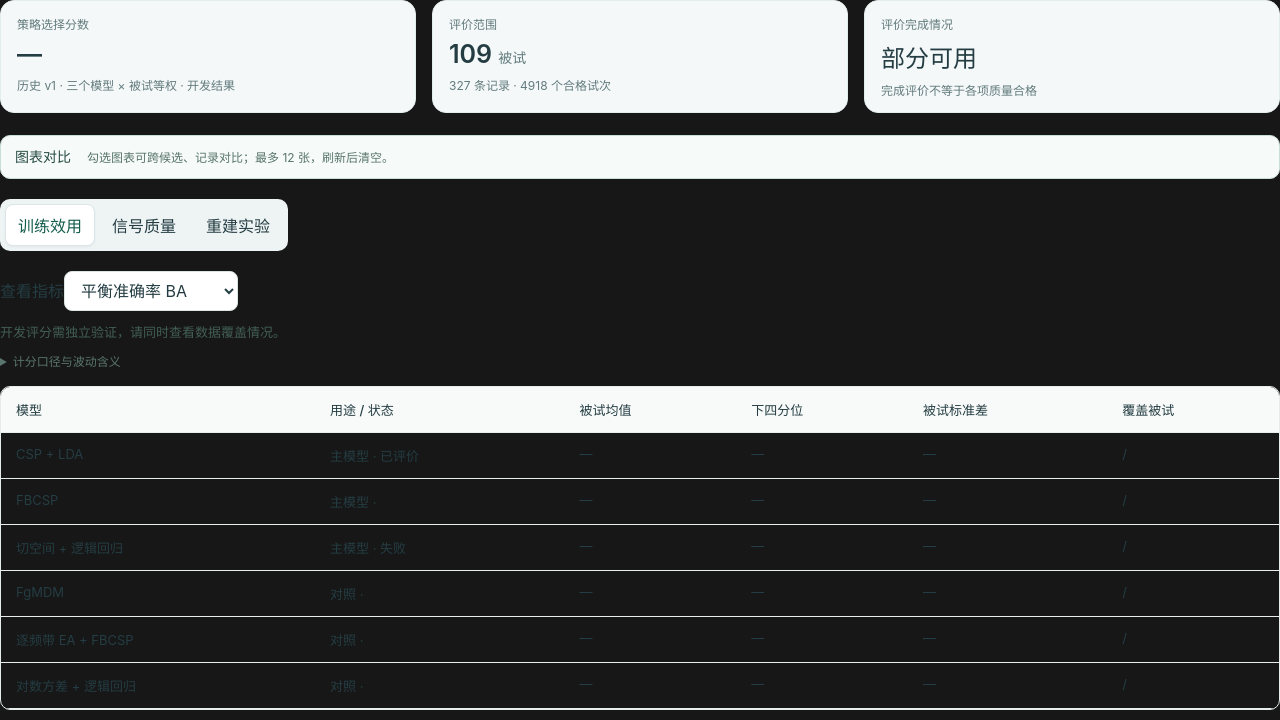
it: multi-axis assessment › does not relabel processed measurements as source measurements while loading
Click the button "信号质量".
click(144, 225)  # box [99, 204, 189, 246]
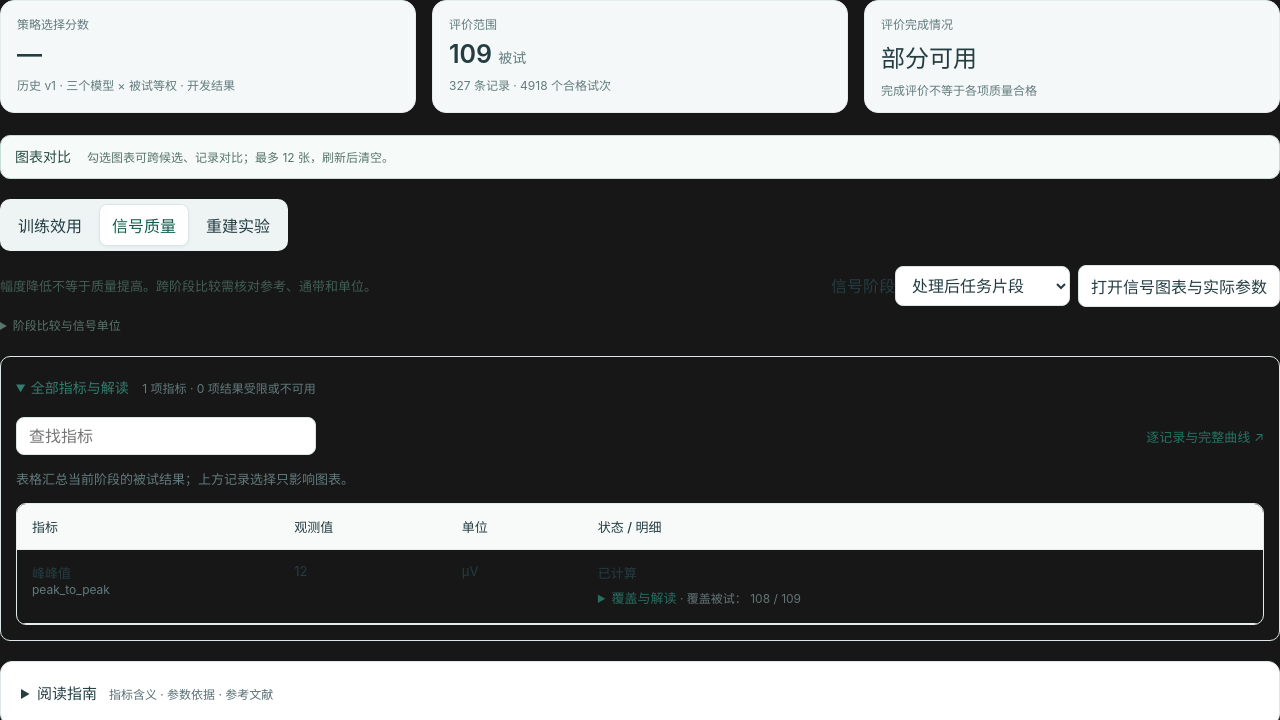
Check: the table shows "12", box [294, 564, 307, 580]
Select "源连续记录" in the dropdown labelled "信号阶段" at (982, 286), box [895, 266, 1070, 306]
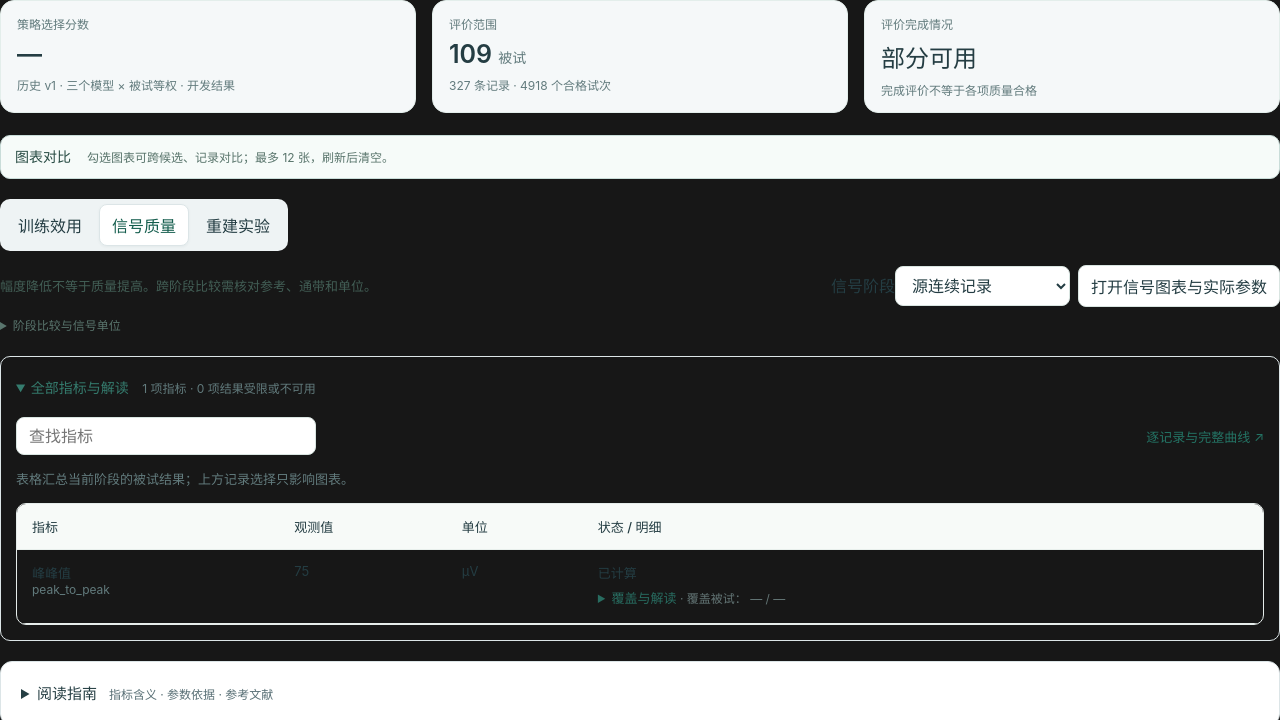
Check: the text "12" is not shown
Check: the table shows "75", box [294, 564, 309, 580]
